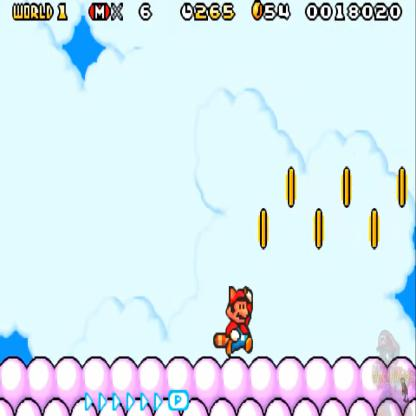Mario: (214, 285, 254, 357)
moneda: (311, 210, 328, 251), (337, 169, 355, 207), (257, 204, 270, 249), (368, 210, 382, 249), (286, 165, 298, 208), (396, 168, 408, 206), (251, 0, 261, 26)
